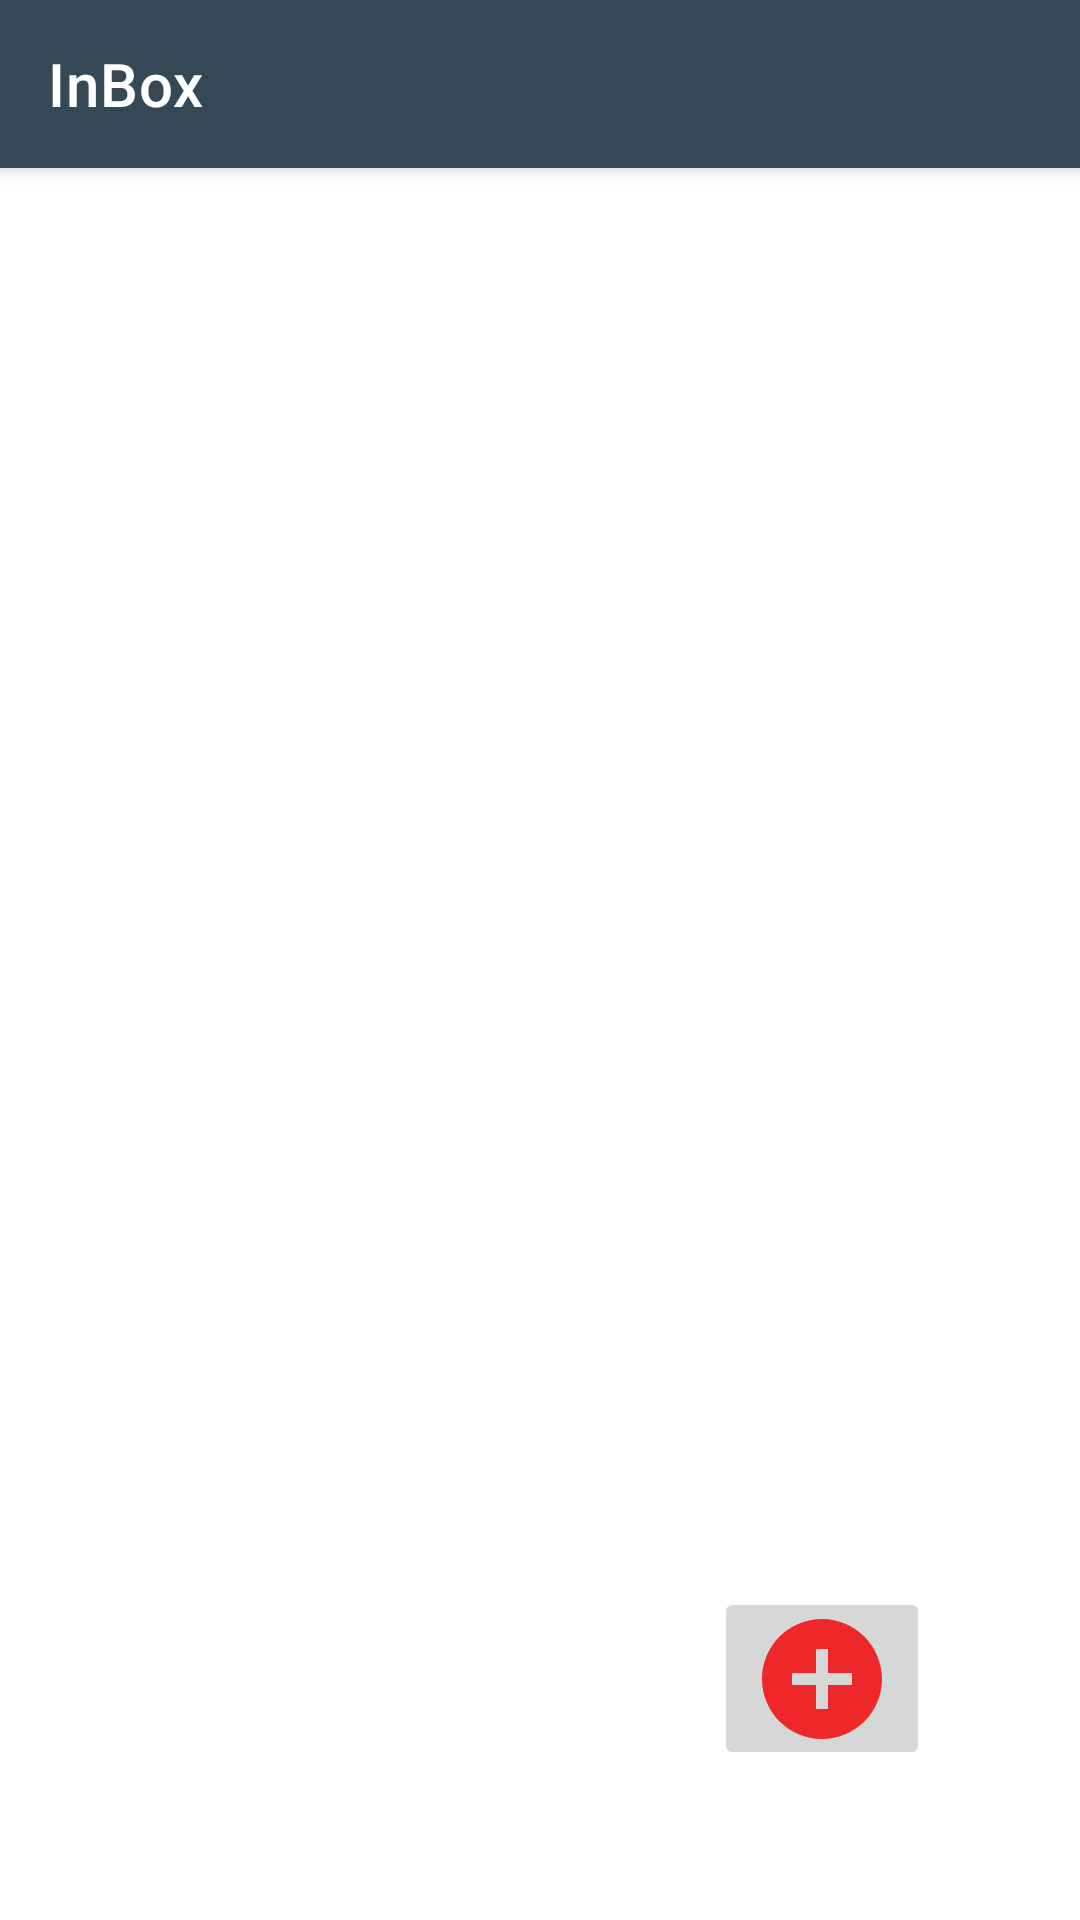

Icons on this 1080*1920 Android screen, each with the point to tap as (x=x, y=y):
add circle: (x=822, y=1678)
